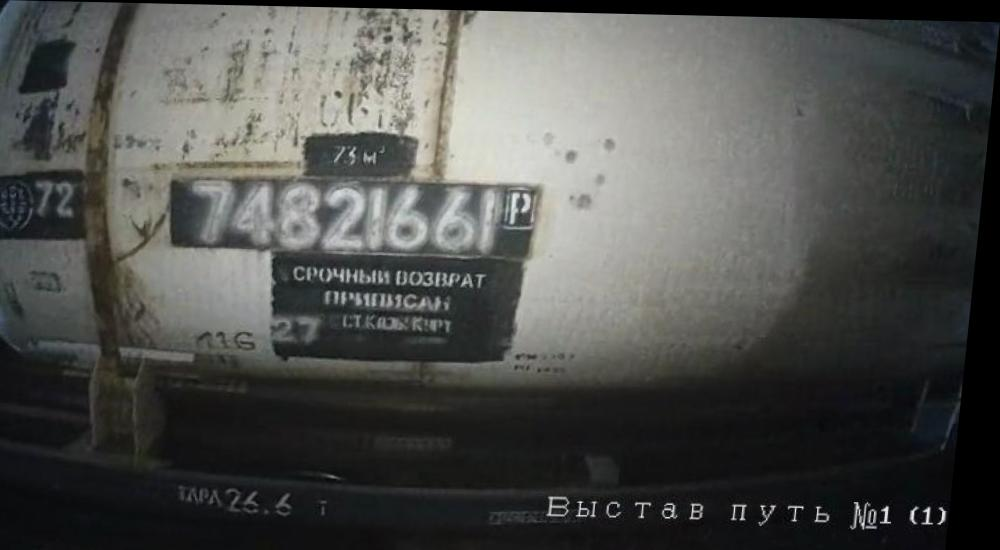Wagon-number: (181, 177, 508, 255)
